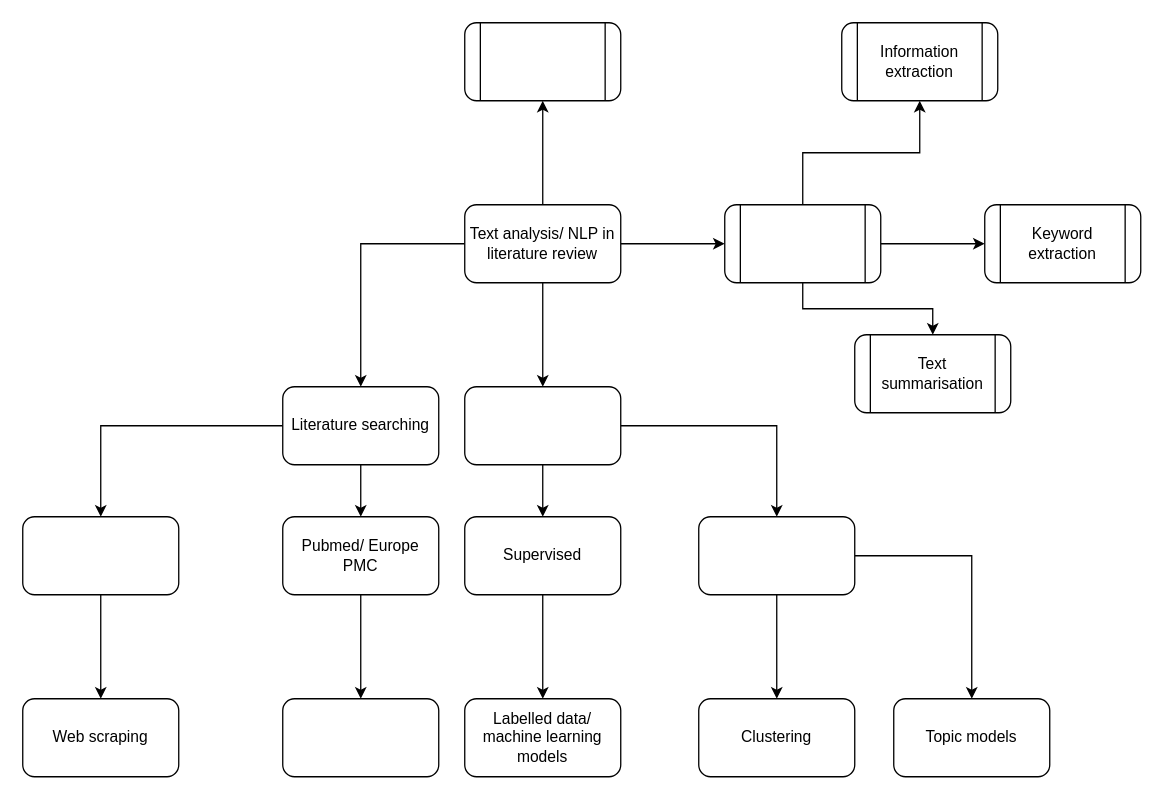
The diagram is 1164 pixels wide and 800 high, and some of its shapes have lost their labels. Each missing label, with the box of its shape:
Grey literature e.g. TRIP/ Google: (21, 515, 179, 595)
NLP techiques: (723, 203, 881, 283)
R packages e.g. myScrapers, epmc, RISmed, crossref: (281, 697, 439, 777)
Sentiment analysis: (463, 21, 621, 101)
Text classification: (463, 385, 621, 465)
Unsupervised: (697, 515, 855, 595)
